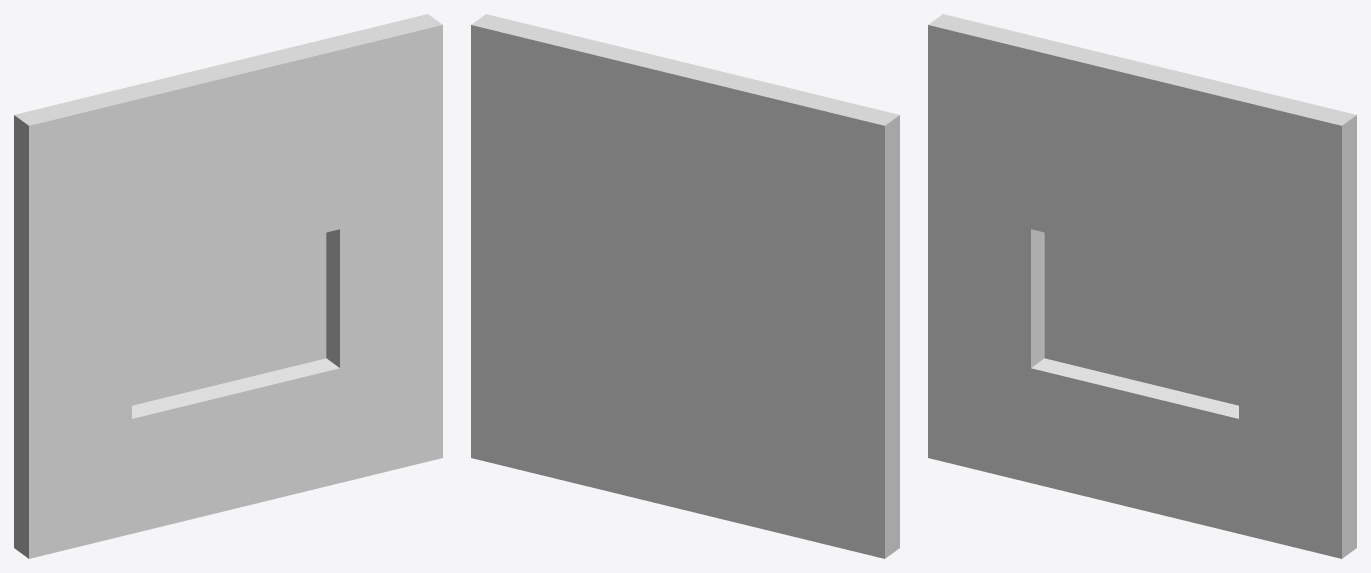
File: wall_026.fbx
3 views of the same model, side by side, from view 1: azimuth 30°, elevation 25°; view 2: azimuth 150°, elevation 25°; view 3: azimuth 330°, elevation 25° (orthographic).
Visible parts, largest first — view 1: wall_026; view 2: wall_026; view 3: wall_026.
Part boxes in pixels (box(x1,y1,x2,y2)): wall_026: box(14, 14, 442, 558); wall_026: box(471, 14, 899, 558); wall_026: box(928, 14, 1356, 558).
Bounding box in the file's own units: 400 × 25 × 400.
